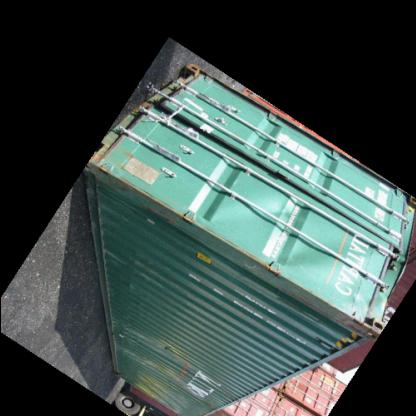Damage: (296, 242, 410, 340), (125, 336, 221, 410)
